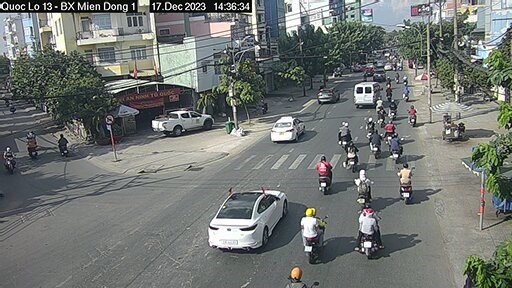car: (218, 189, 286, 250), (267, 116, 311, 144), (151, 113, 212, 133), (349, 83, 380, 106), (370, 65, 387, 85), (317, 89, 338, 103)
motorbike: (348, 201, 383, 248), (298, 208, 323, 259), (352, 176, 382, 209), (315, 154, 330, 190), (369, 129, 388, 156), (402, 164, 416, 197), (338, 120, 354, 148), (388, 138, 405, 162), (346, 148, 360, 171)
